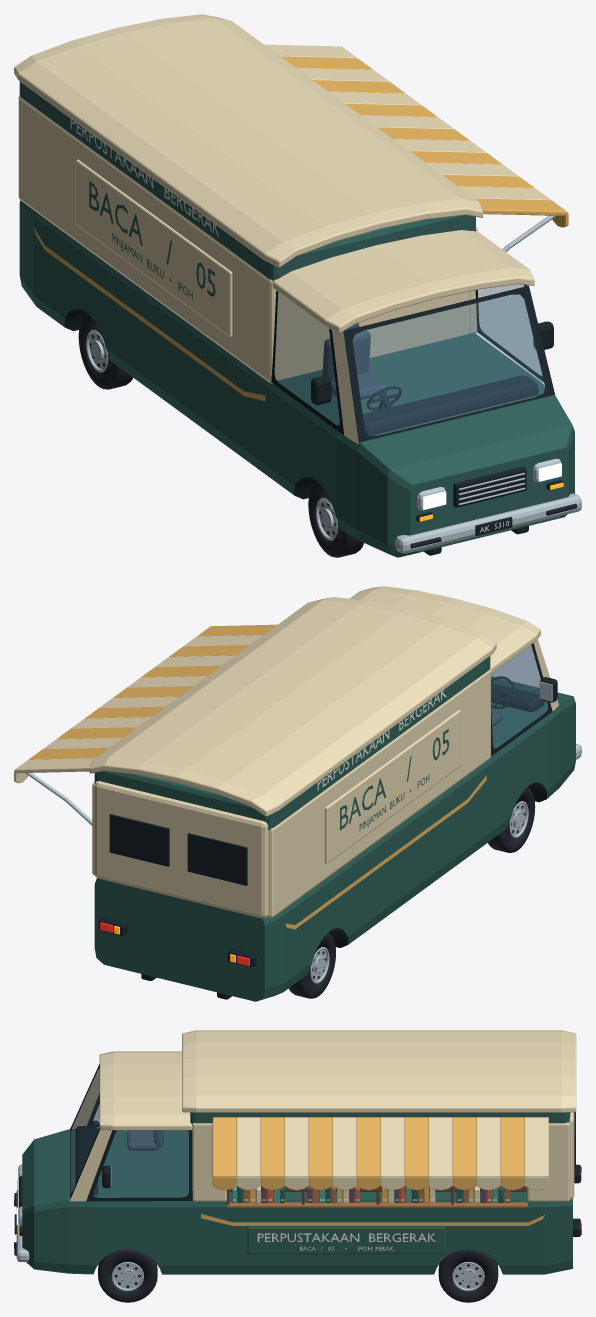
3 views of the same model, one above another, from view 1: azimuth 30°, elevation 25°; view 2: azimuth 150°, elevation 25°; view 3: azimuth 270°, elevation 25° (orthographic). The views are drawn at different scales.
Parts seen in each view (by area): view 1: Ipoh Library Wagon; view 2: Ipoh Library Wagon; view 3: Ipoh Library Wagon.
Part boxes in pixels (bbox=[...]): Ipoh Library Wagon: bbox=[14, 14, 581, 557]; Ipoh Library Wagon: bbox=[14, 586, 581, 1001]; Ipoh Library Wagon: bbox=[14, 1030, 581, 1302].
Size of the model in its own units: 3.57 by 2.98 by 7.22.
